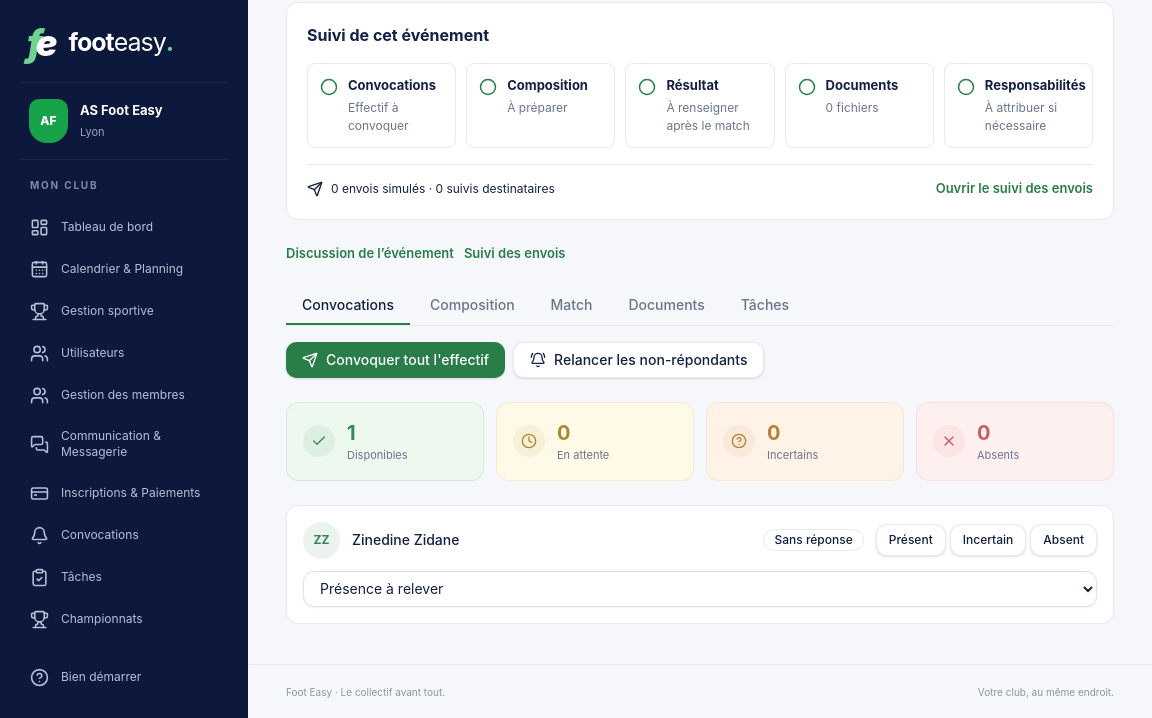
Test case: EventPage › reminds members who have not answered
This screenshot has width=1152, height=718.
(page scrolled)
Click the button "Relancer les non-répondants" at (639, 360), box x1=513 y1=342 x2=764 y2=378
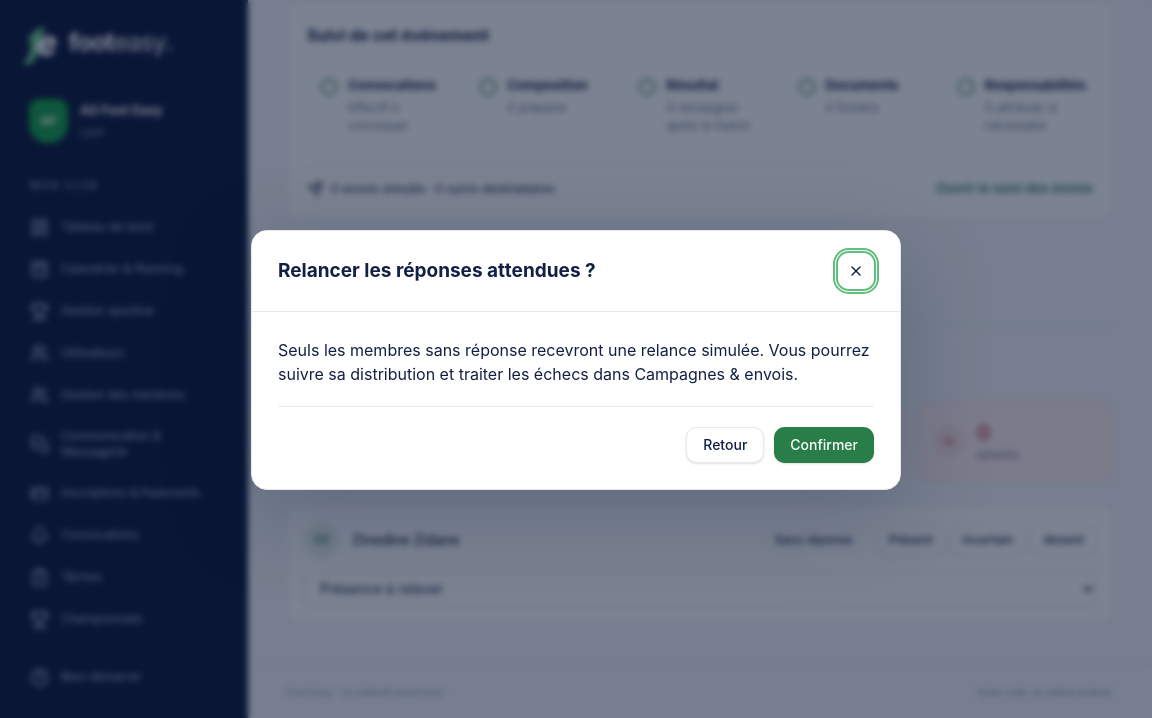
Click the button "Confirmer" at (824, 445), box x1=774 y1=427 x2=874 y2=463
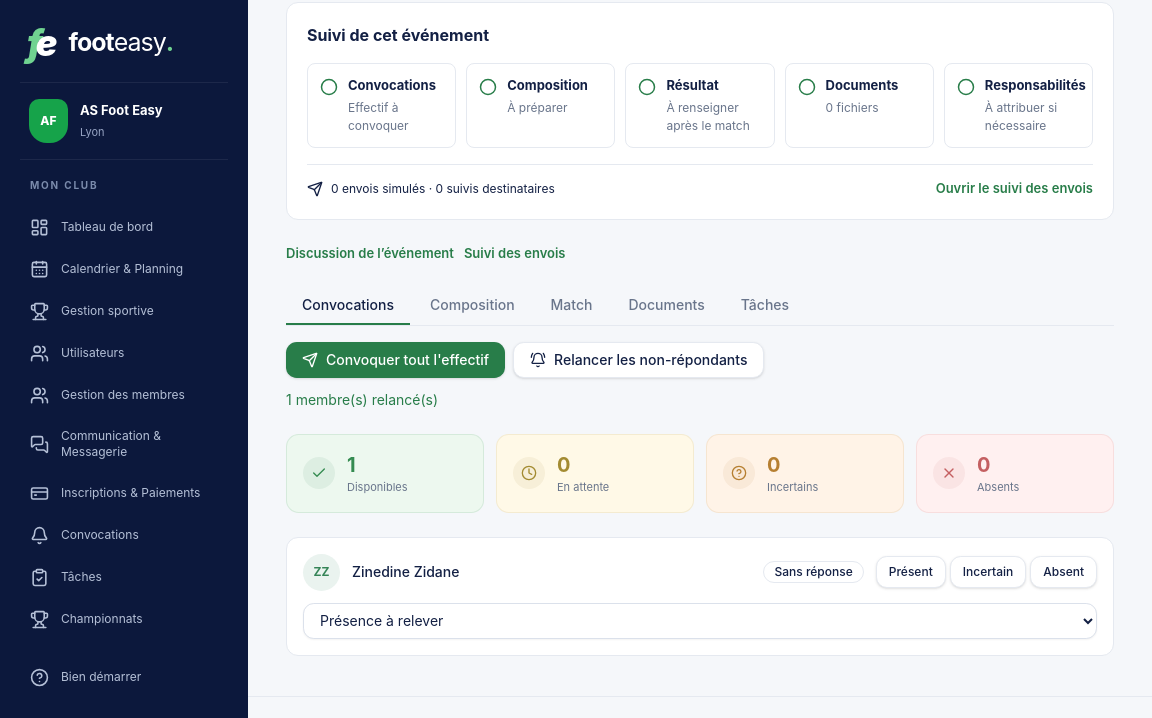
Expected: the text "1 membre(s) relancé(s)" is shown, x1=286 y1=391 x2=438 y2=408
